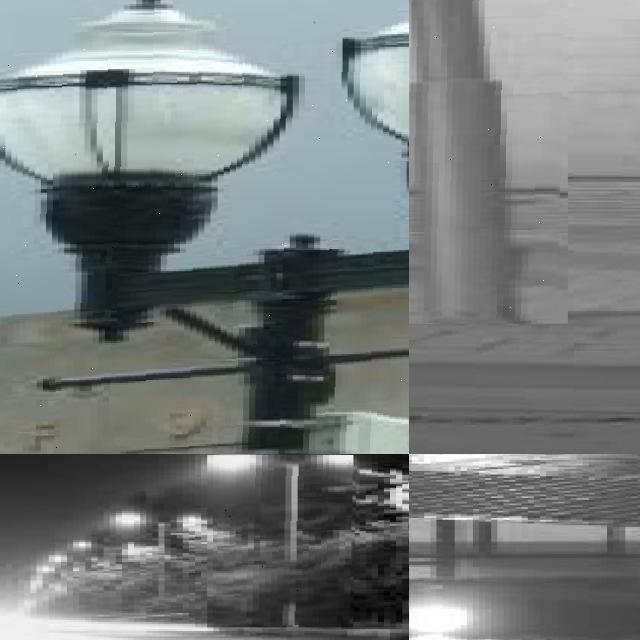street light: (0, 0, 409, 454), (409, 0, 568, 323), (213, 455, 357, 627), (110, 513, 204, 614), (73, 540, 140, 615)
